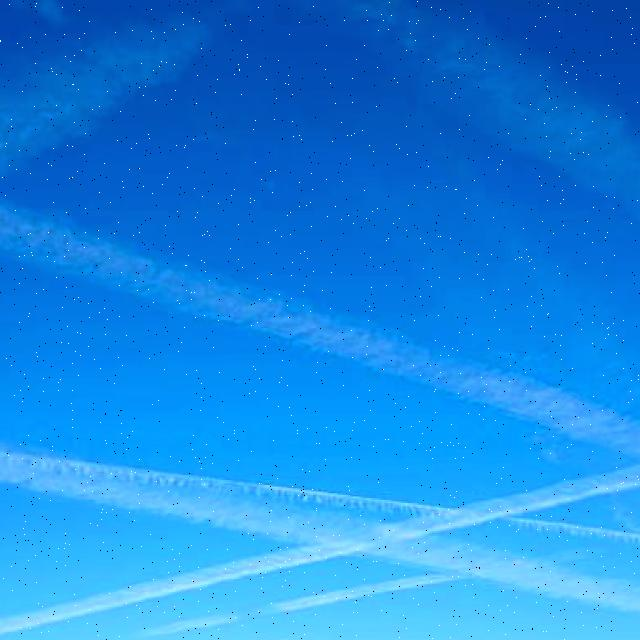Ct: (1, 54, 640, 616)
